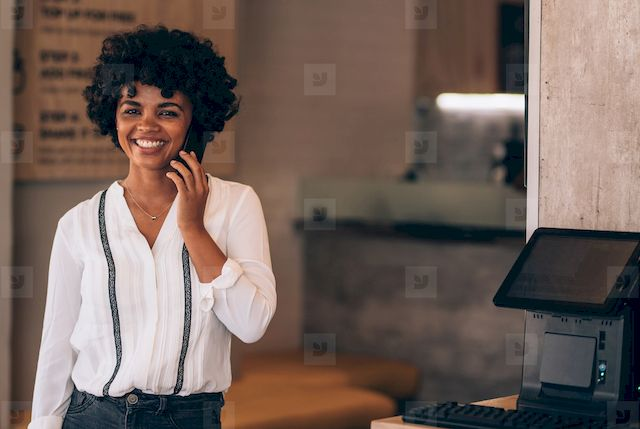phone: (180, 118, 207, 181)
talk: (119, 93, 212, 217)
